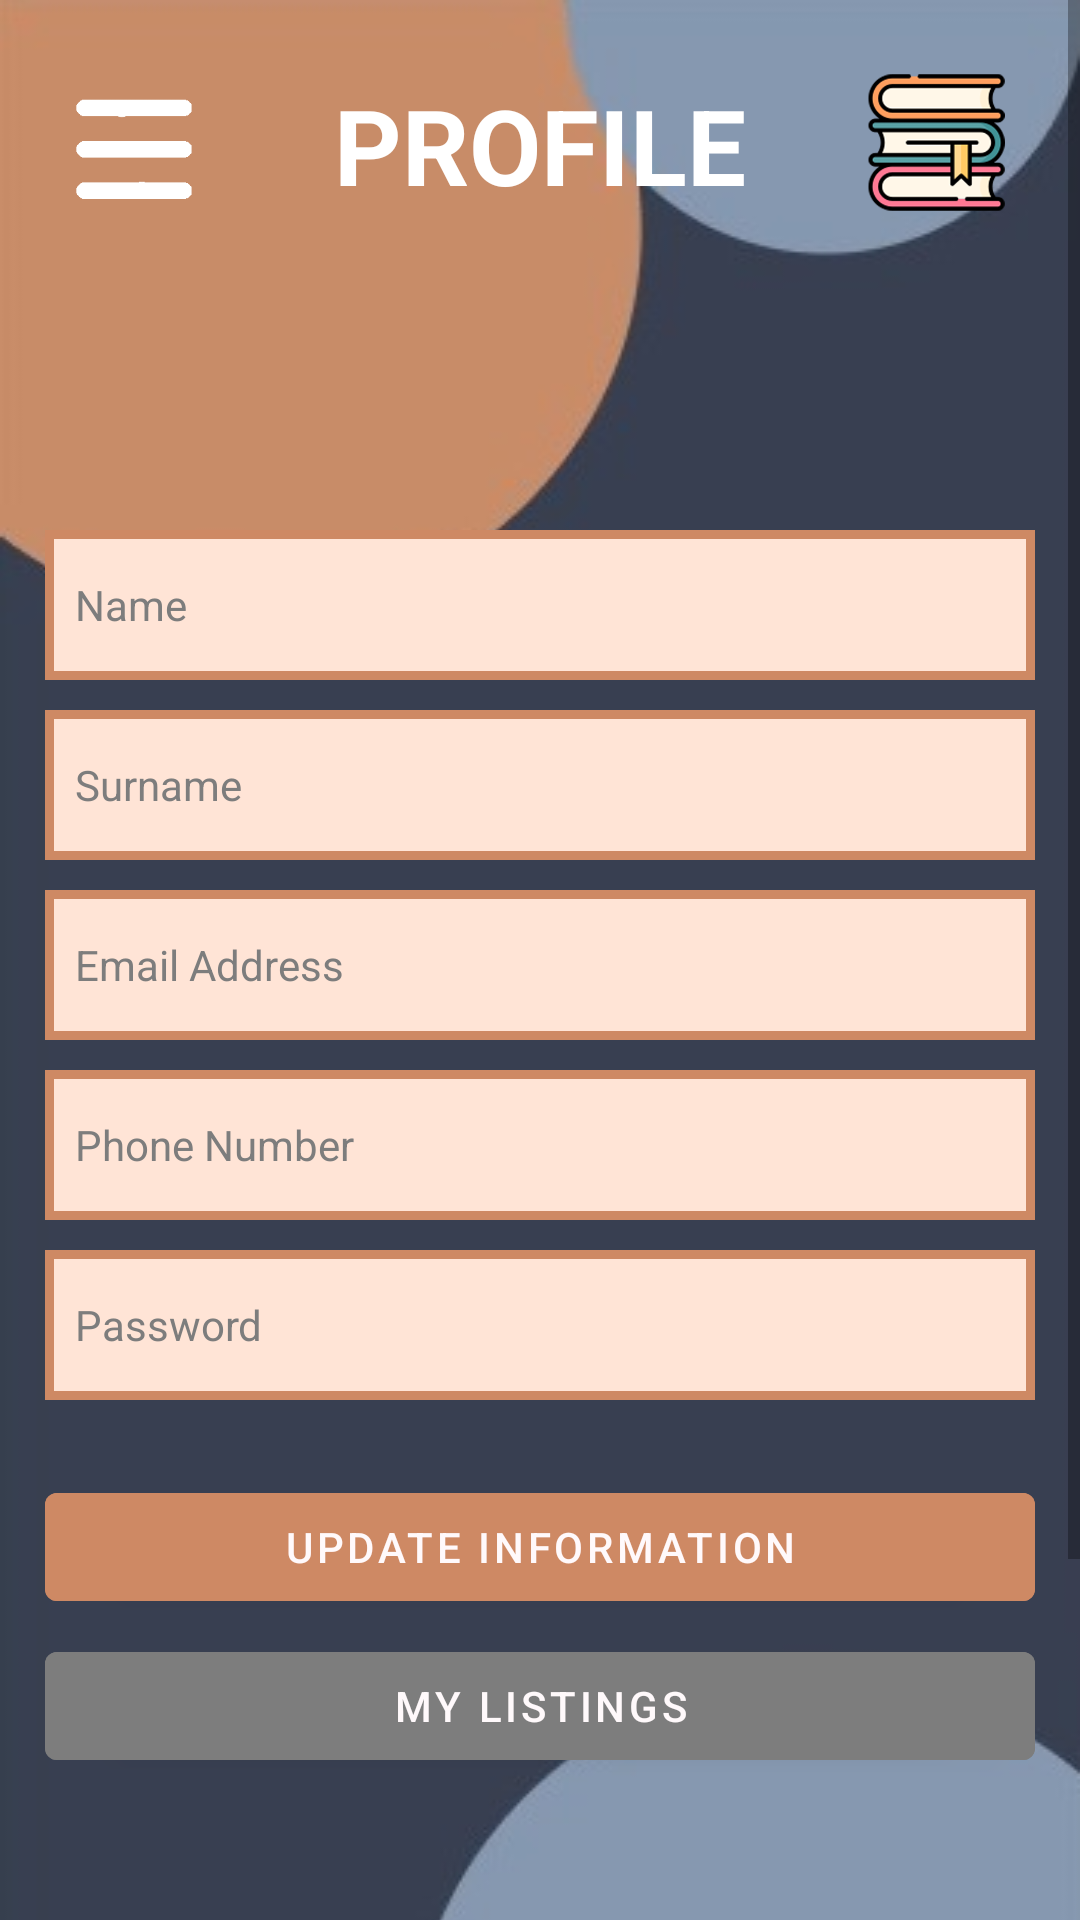

Icon bounding boxes for this 1080*1920 phone screenshot, format (x1, y1, x2, y2):
menuwhite: (76, 99, 192, 199)
